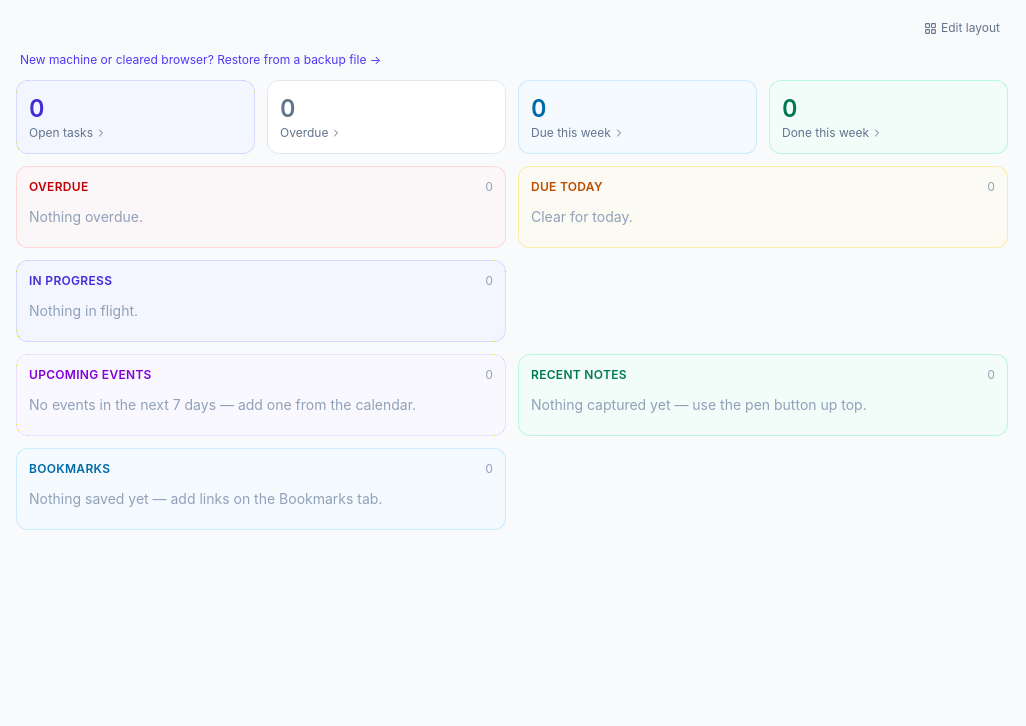
Test: dashboard layout editing › moves a tile, hides it, and keeps both in the persisted layout
What coordinates should you click on to do the following:
click the button "Edit layout"
I would click on:
 (962, 28)
Its box is [916,16,1008,40].
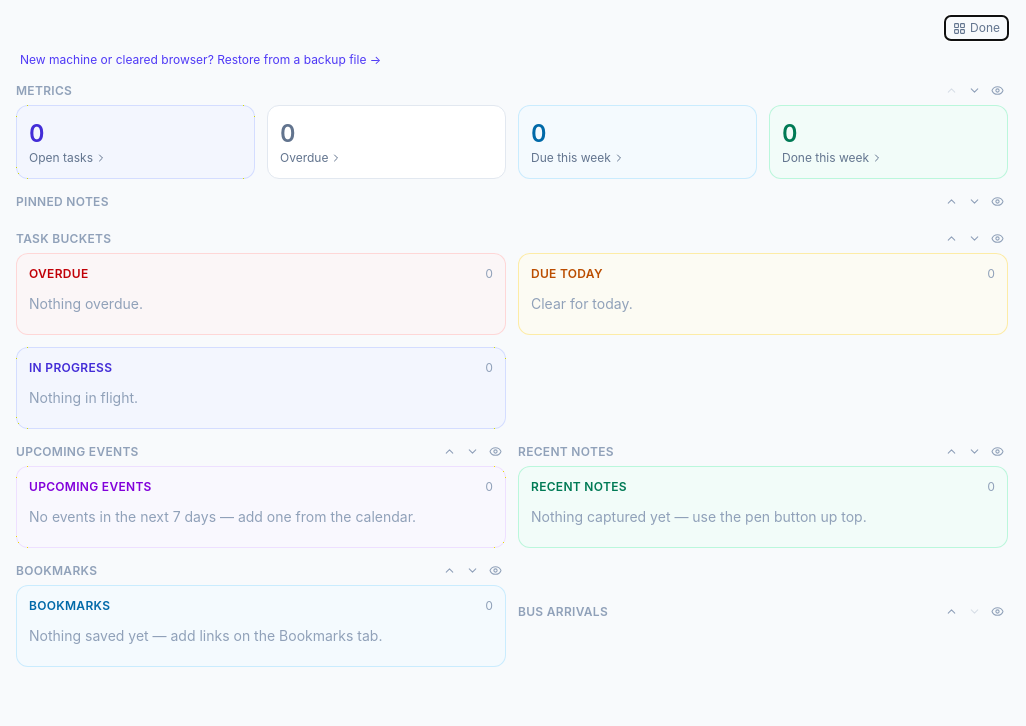
What coordinates should you click on to do the following:
click the button titled "Move tile down" in the row of "Metrics"
I would click on:
 (974, 90)
Its box is [964,80,985,101].
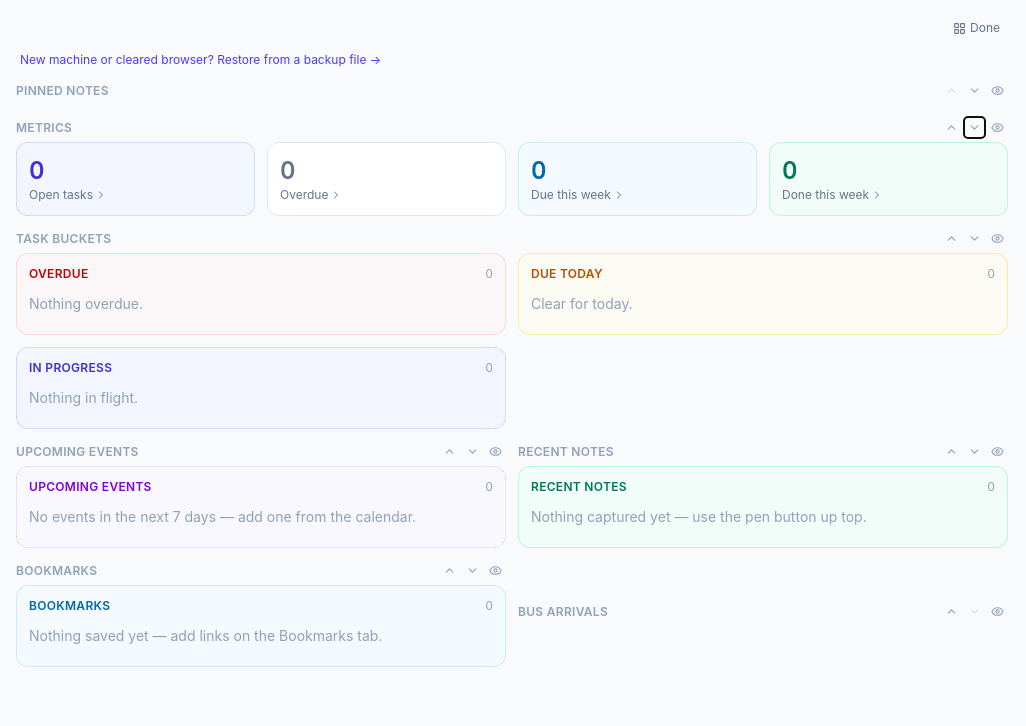
Note: Hiding leaves the tile in place, so it is still listed while editing.
What coordinates should you click on to do the following:
click the button titled "Hide tile" in the row of "Pinned notes"
I would click on:
 (998, 90)
Its box is [987,80,1008,101].
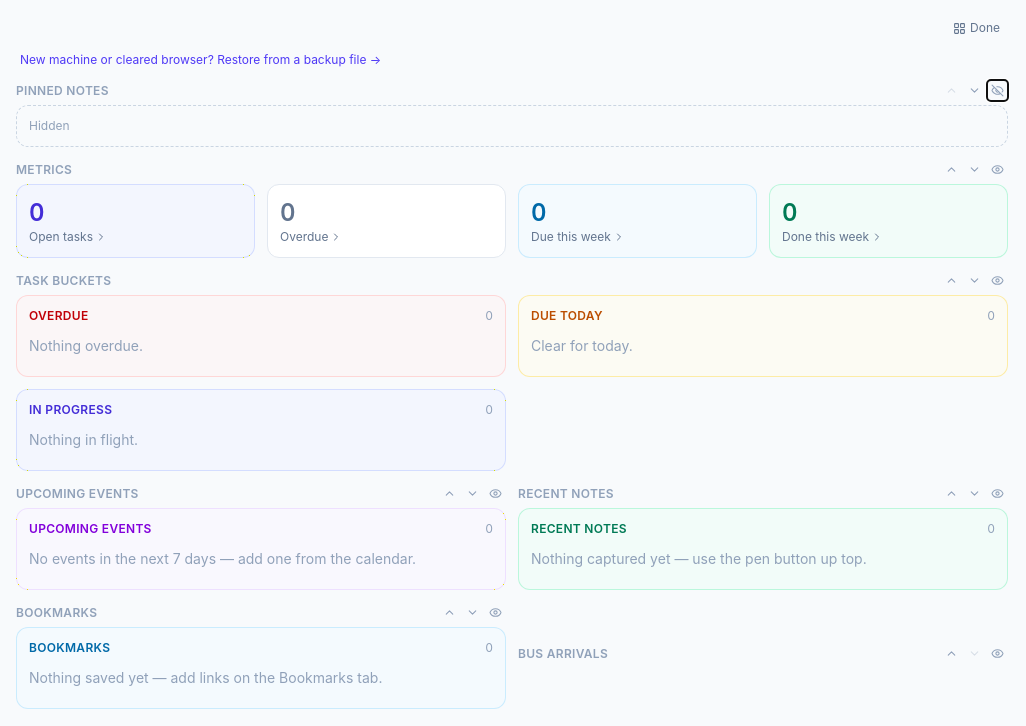
Result: the text "Hidden" is shown at [16,105,1008,147]
Note: …and out of the dashboard once editing ends.
What coordinates should you click on to do the following:
click the button "Done"
I would click on:
 (976, 28)
Its box is [945,16,1008,40].
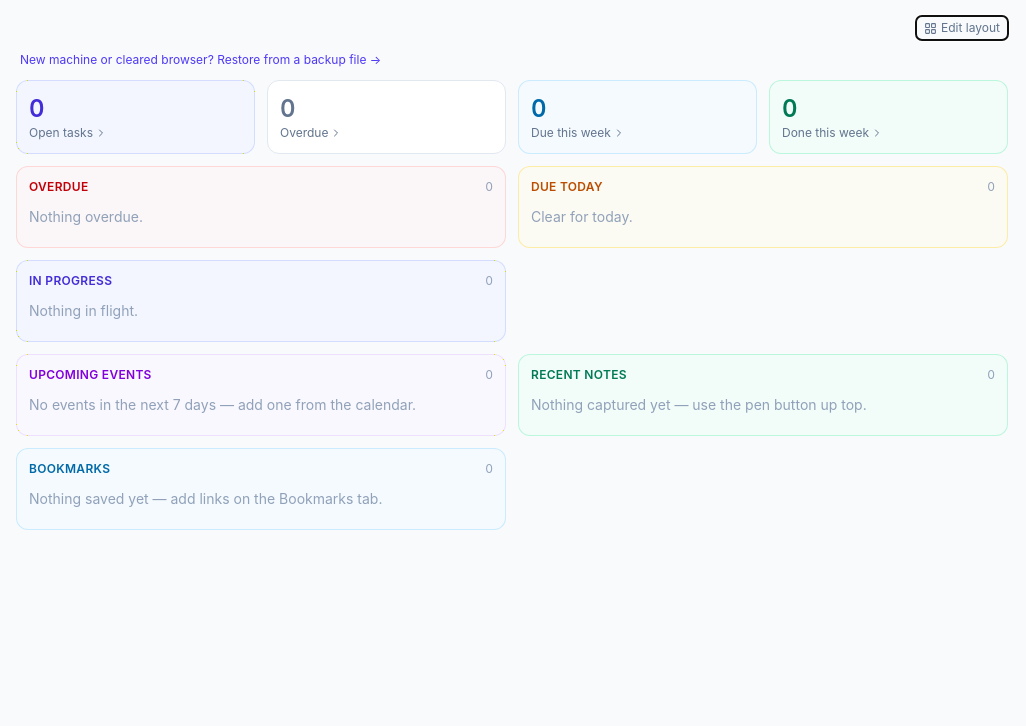
Result: the text "Hidden" is gone
